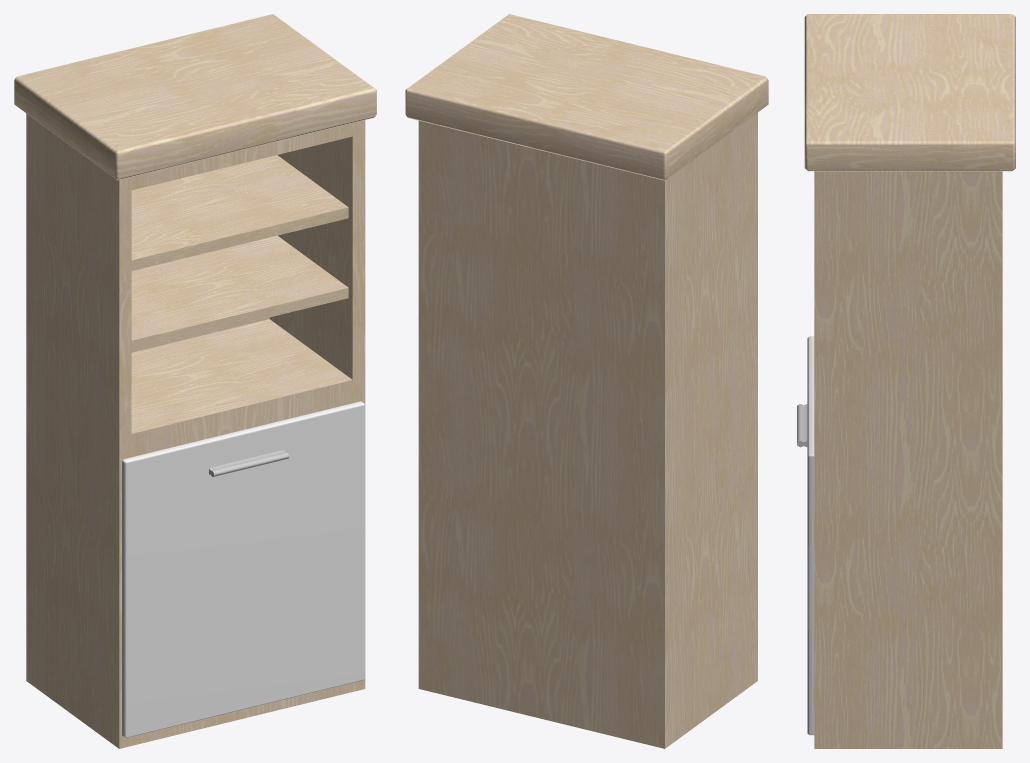
Rendered from wall cabinet_022.fbx.
3 renders of one model, left to right at view 1: azimuth 30°, elevation 25°; view 2: azimuth 150°, elevation 25°; view 3: azimuth 270°, elevation 25°, orthographic.
Parts seen in each view (by area): view 1: wall cabinet_022; view 2: wall cabinet_022; view 3: wall cabinet_022.
Part boxes in pixels (left/top/right/bottom): wall cabinet_022: left=14, top=14, right=376, bottom=748; wall cabinet_022: left=405, top=14, right=768, bottom=748; wall cabinet_022: left=797, top=14, right=1015, bottom=748.
Bounding box in the file's own units: 115 × 82.26 × 253.
